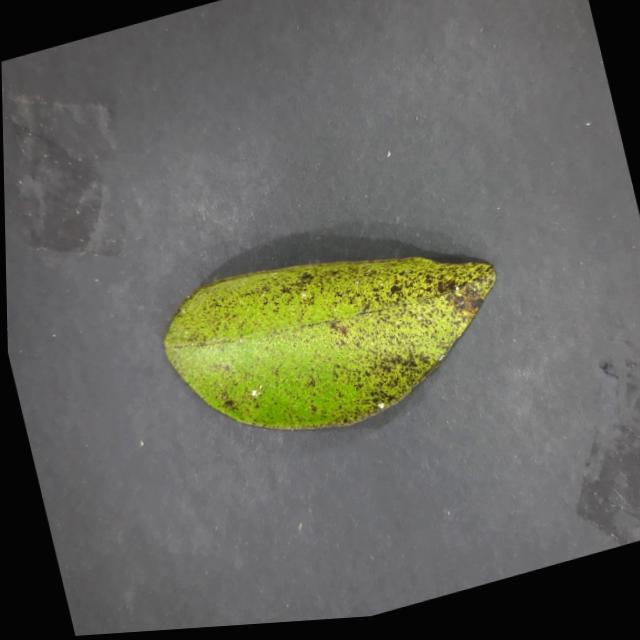greasy_spot: (165, 258, 495, 428)
